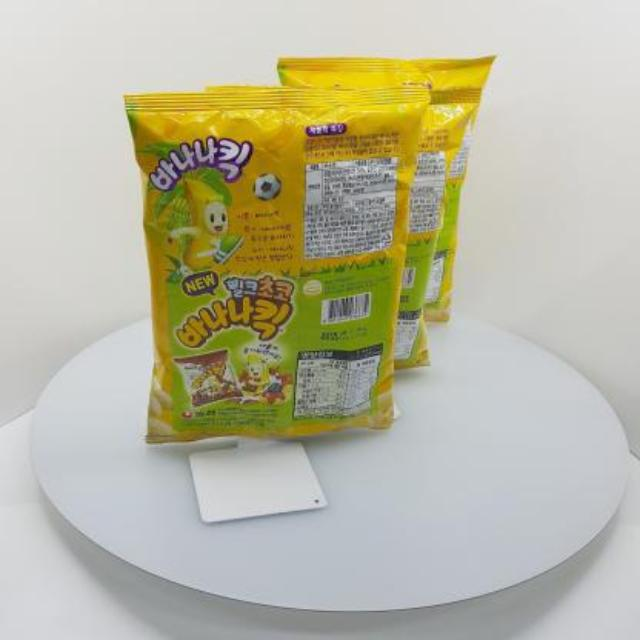snack_bag: (105, 43, 515, 455)
